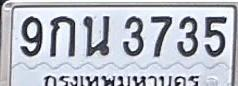3: (176, 15, 199, 58), (122, 15, 144, 57)
5: (204, 16, 227, 57)
7: (150, 15, 173, 58)
9: (20, 16, 42, 57)
A01: (49, 15, 76, 58)
A25: (82, 14, 110, 57)
